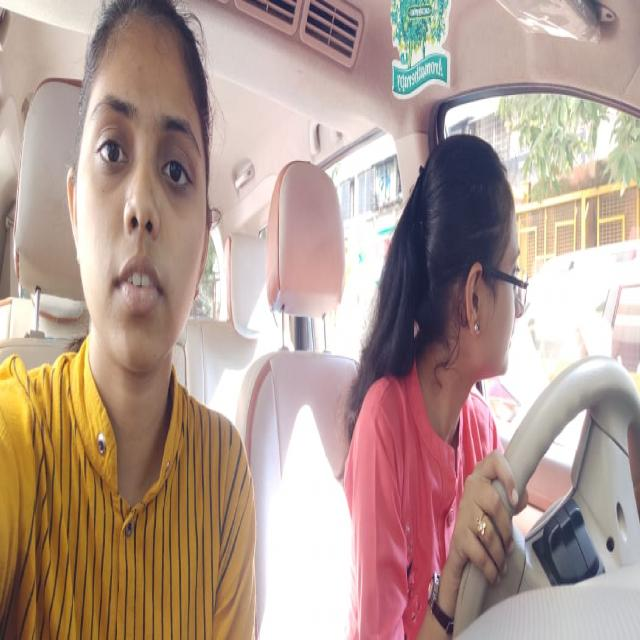LeftRight: (405, 112, 528, 405)
person: (62, 1, 214, 381)
